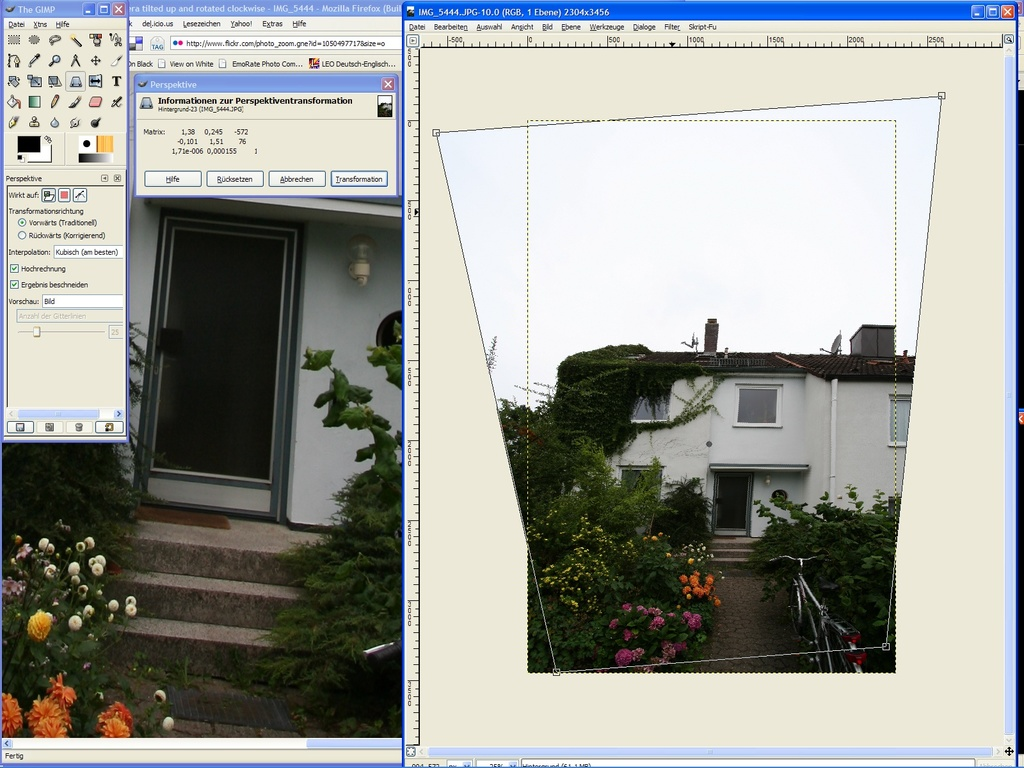Door: (110, 213, 308, 512), (714, 475, 750, 532)
